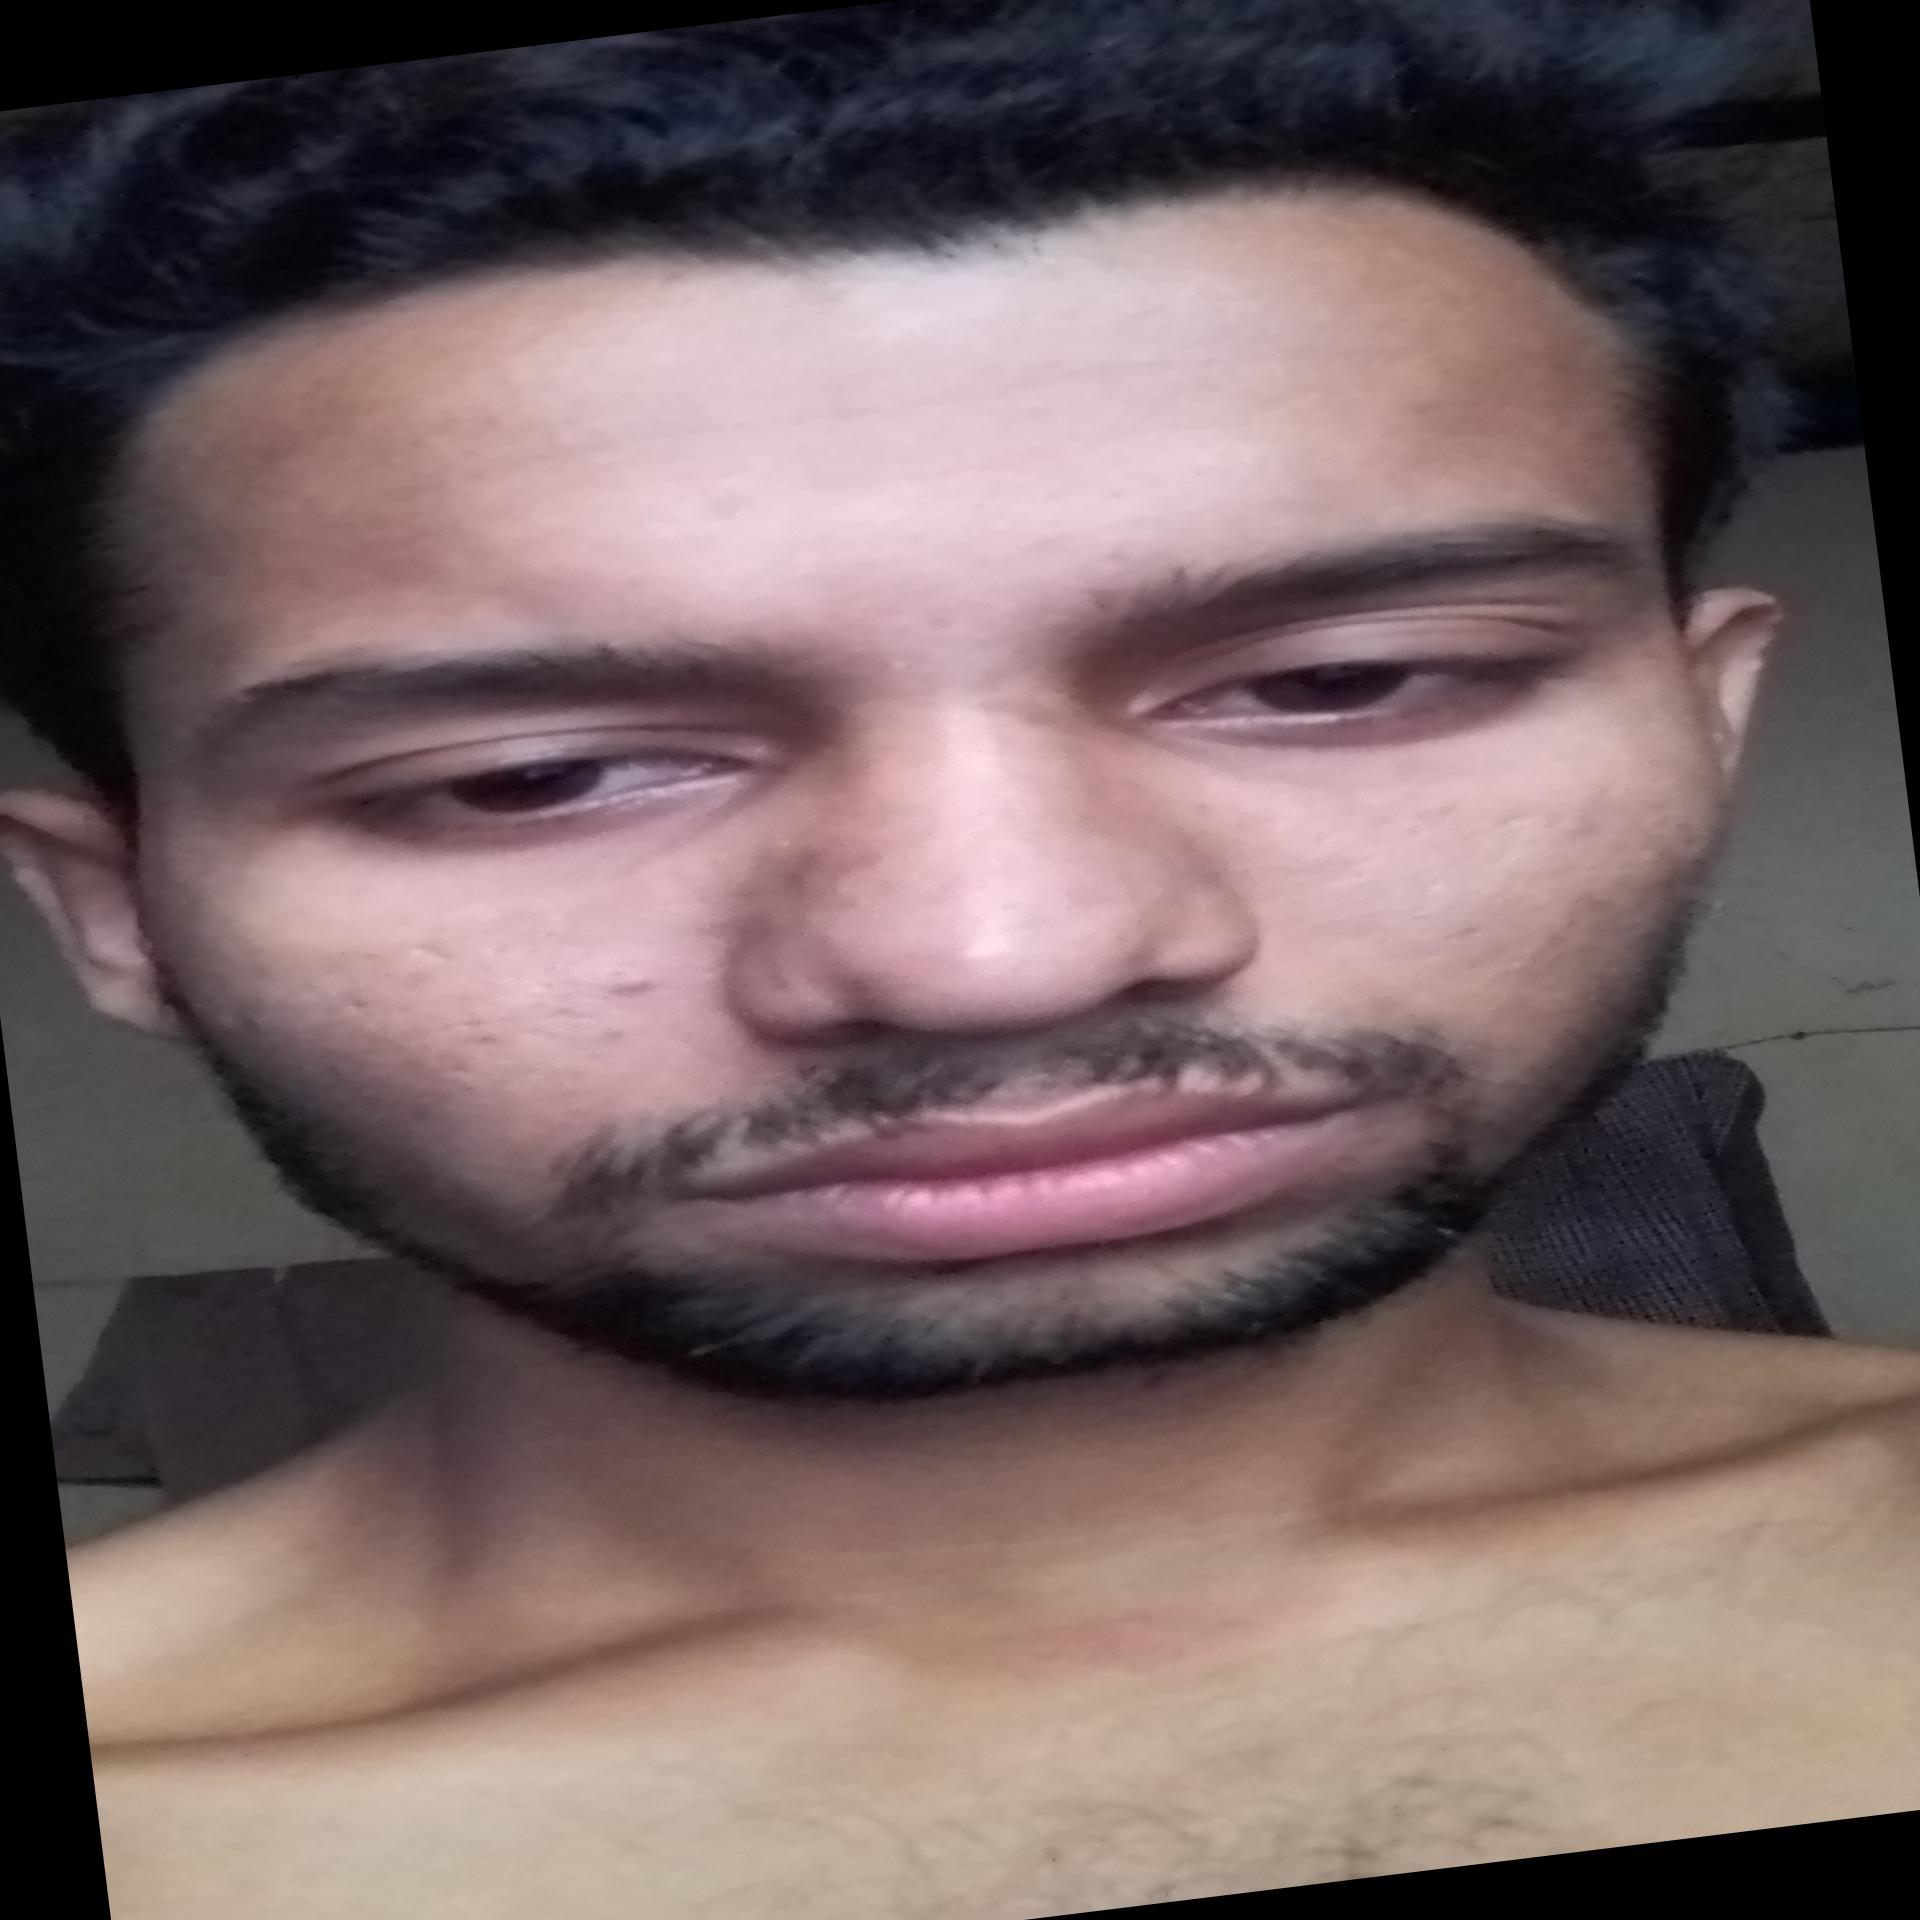Acne: (1405, 921, 1502, 955), (587, 974, 661, 1013)
Englarged Pores: (280, 918, 577, 1101), (1241, 788, 1537, 909)
